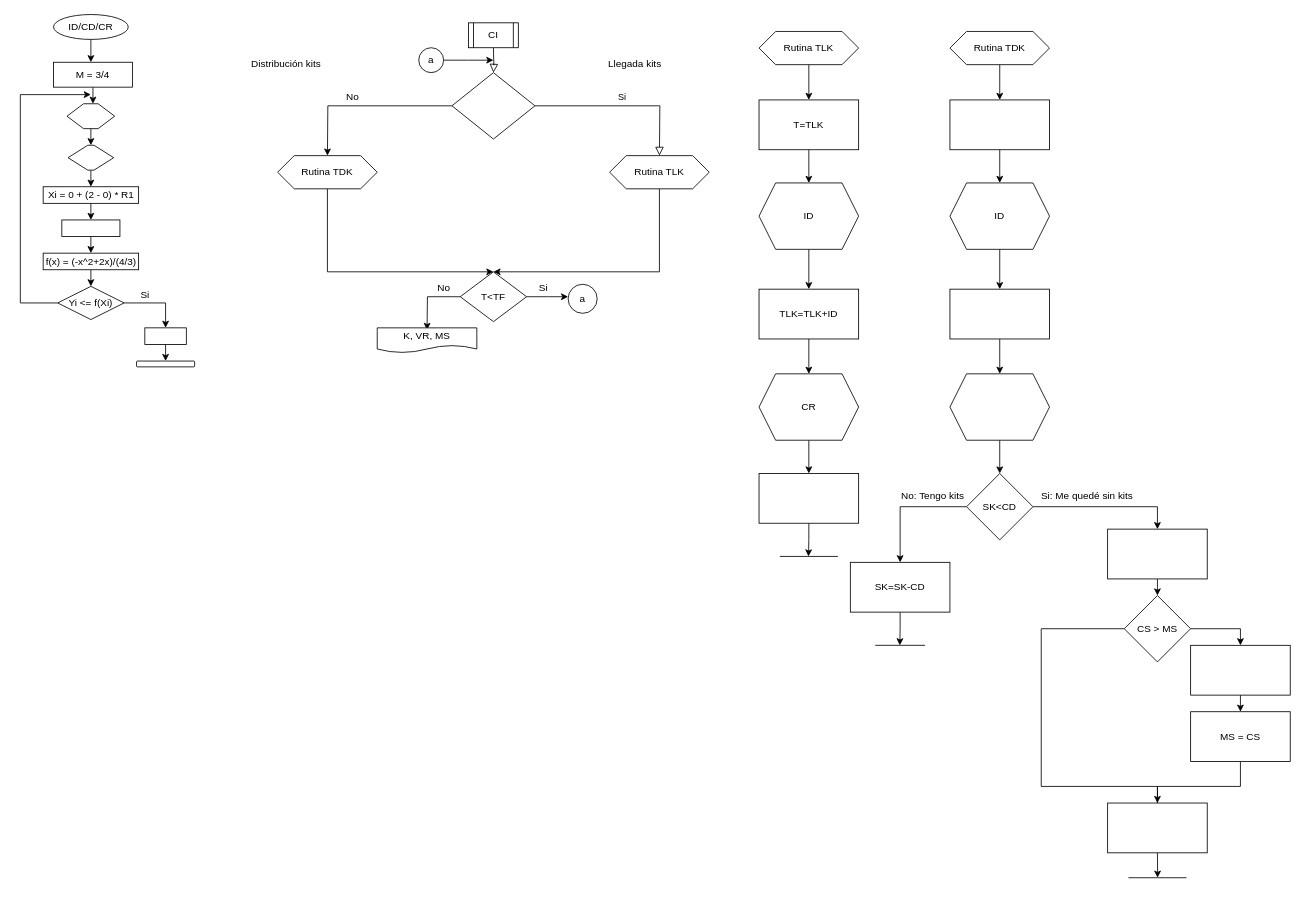
Image size: 1305x899. Some labels were removed from this diagram. Here are the shapes that lost their labels. From the top down, the centre of each, then its label:
At [90,116]: "R1".
At [493,105]: "TLK < TDK".
At [999,124]: "T=TDK".
At [90,157]: "R2".
At [90,228]: "Yi = M * R2".
At [999,313]: "TDK=TDK+ID".
At [165,335]: "IA = Xi".
At [999,406]: "CD".
At [808,498]: "SK=SK+CR".
At [1157,553]: "CS=CD-SK".
At [1240,669]: "VR=VR+1".
At [1157,827]: "SK=0".
